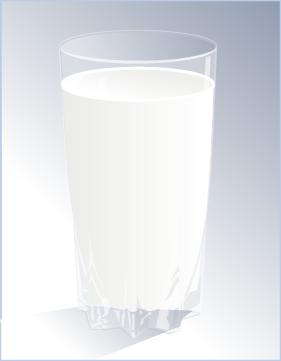glass of milk: (67, 60, 216, 326)
